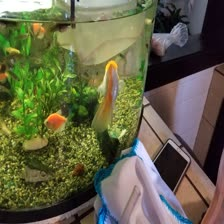Cuezo: (86, 52, 123, 133)
Plano: (39, 103, 68, 136)
